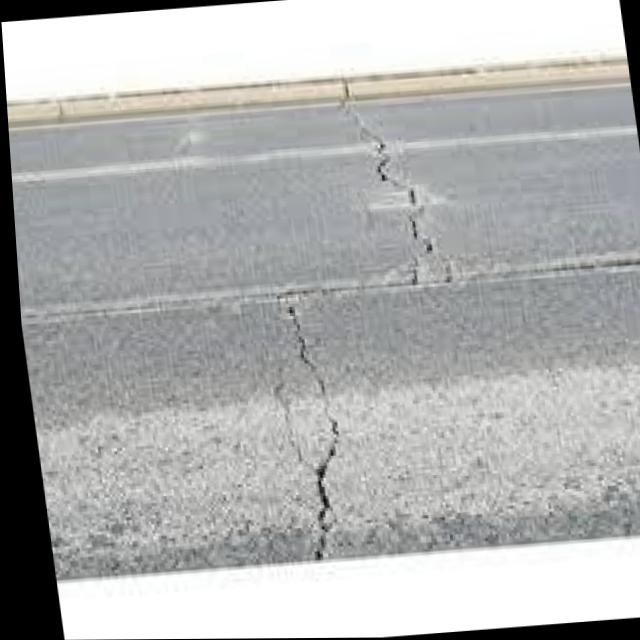Crack: (261, 292, 350, 559), (342, 92, 449, 291)
